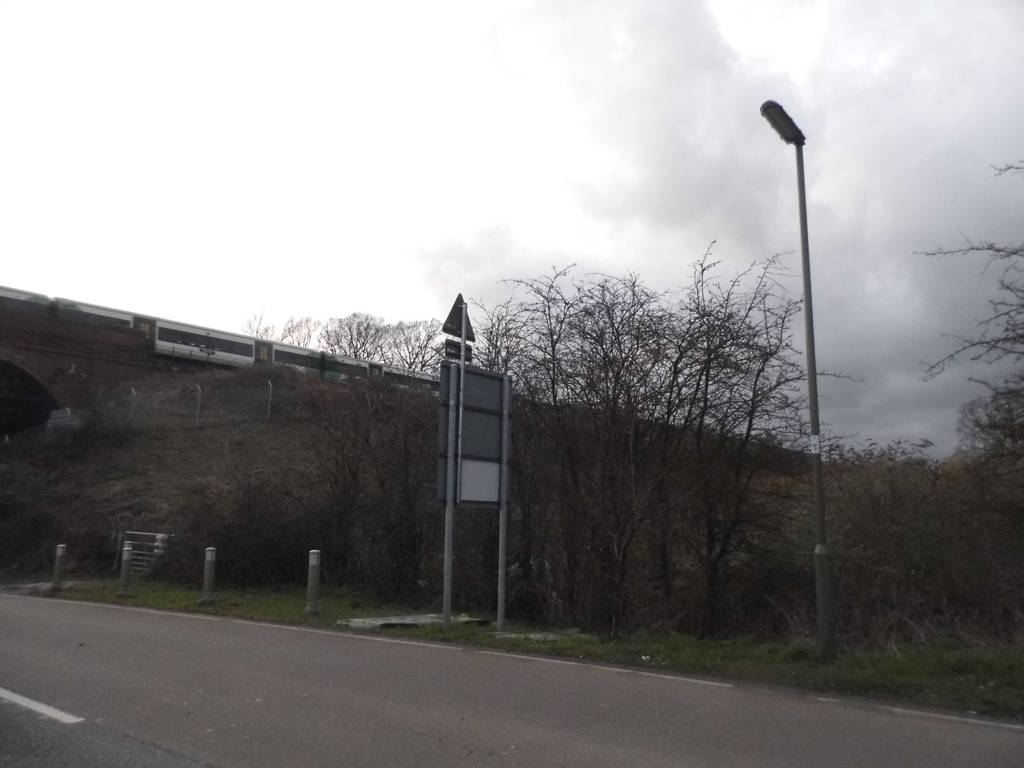Tree: (0, 142, 1023, 659)
